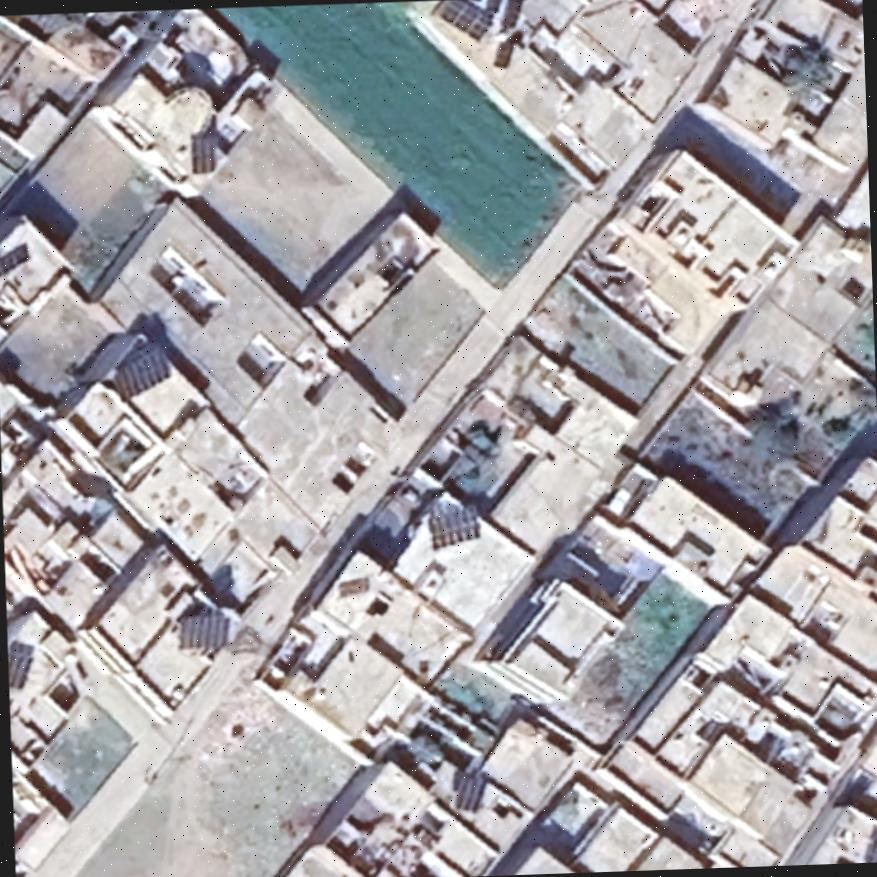Solarpanel: (104, 346, 176, 404), (431, 0, 503, 44), (425, 502, 481, 548), (176, 608, 230, 651), (452, 769, 486, 812), (188, 128, 218, 174), (6, 640, 32, 690), (0, 238, 31, 279)
